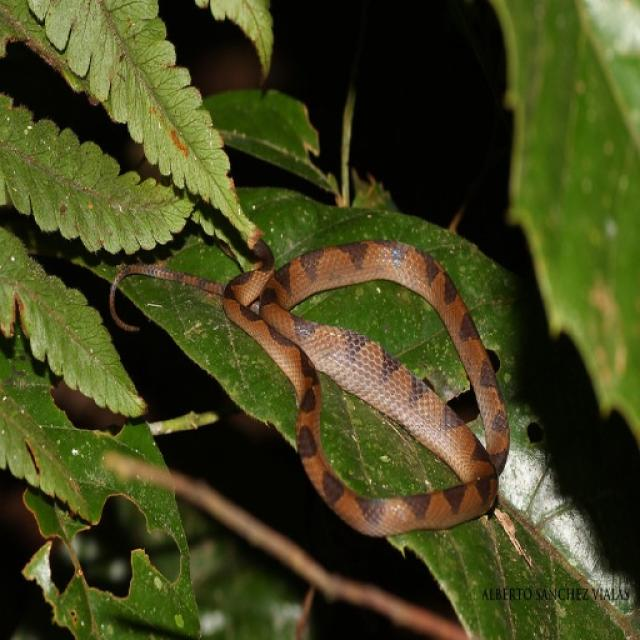snake: (98, 231, 531, 531)
